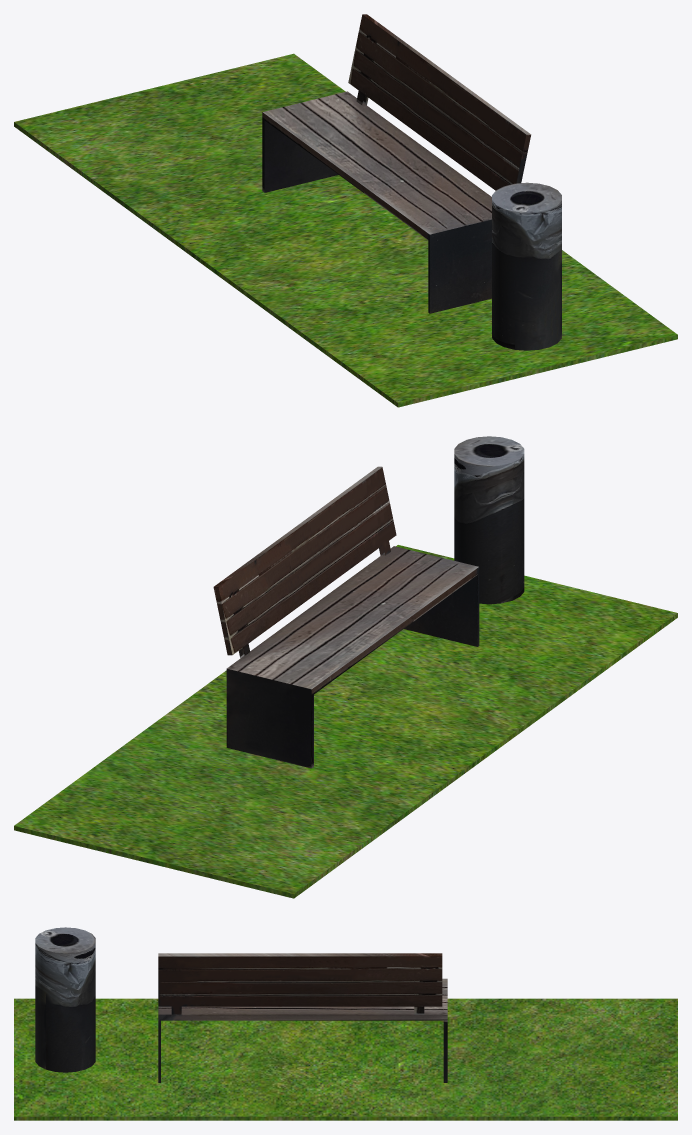
The model's file is Banca.obj.
The picture shows the model from 3 angles, top to bottom: view 1: azimuth 30°, elevation 25°; view 2: azimuth 150°, elevation 25°; view 3: azimuth 270°, elevation 25°; orthographic projection. The views are drawn at different scales.
Visible parts, largest first — view 1: piso, Box003; view 2: piso, Box003; view 3: piso, Box003.
Part boxes in pixels (x1,y1,x2,y2): piso: (14, 53, 677, 407); Box003: (262, 14, 561, 350); piso: (14, 545, 677, 898); Box003: (213, 436, 524, 768); piso: (14, 998, 677, 1120); Box003: (35, 927, 447, 1082).
Bounding box in the file's own units: 15.09 × 8.25 × 35.85.
